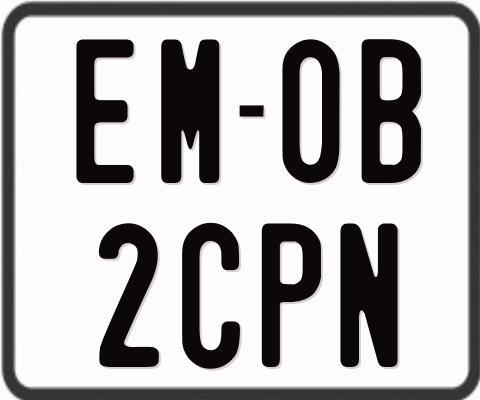0: (279, 38, 338, 182)
2: (99, 220, 161, 369)
B: (362, 37, 425, 185)
C: (181, 220, 242, 366)
E: (75, 36, 139, 184)
M: (161, 39, 225, 183)
N: (340, 220, 402, 368)
P: (259, 223, 324, 372)
